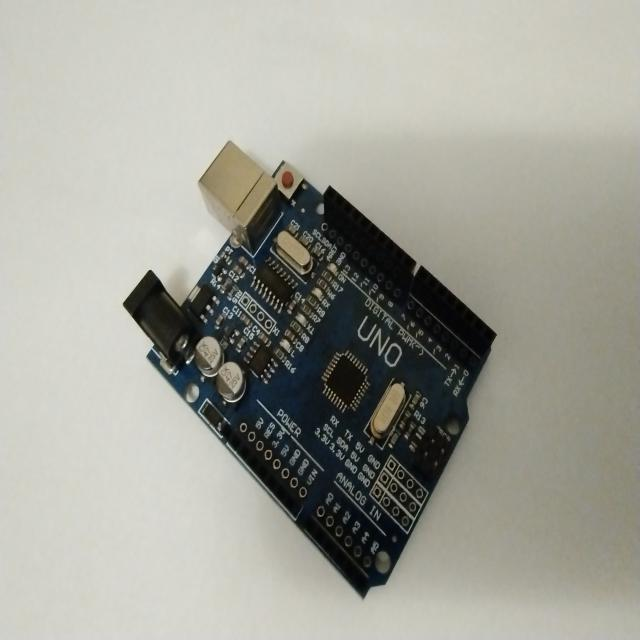arduino: (128, 116, 504, 608)
